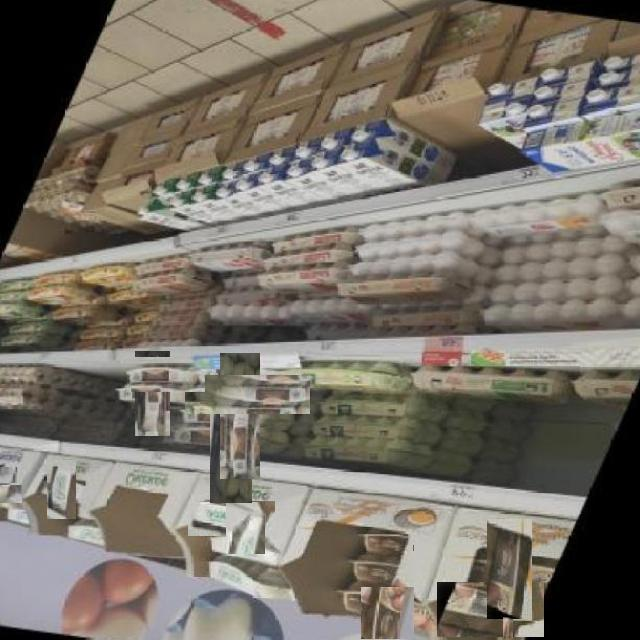Egg: (404, 353, 580, 416), (195, 554, 309, 607), (437, 581, 544, 637), (209, 373, 252, 503), (220, 352, 260, 479), (362, 544, 414, 640), (185, 375, 310, 414), (486, 520, 532, 619), (226, 501, 265, 595), (188, 500, 275, 536), (135, 351, 170, 436), (121, 357, 205, 392), (339, 552, 414, 587), (352, 528, 413, 558), (48, 459, 76, 519), (0, 486, 22, 503), (0, 468, 17, 483), (503, 617, 513, 640)
